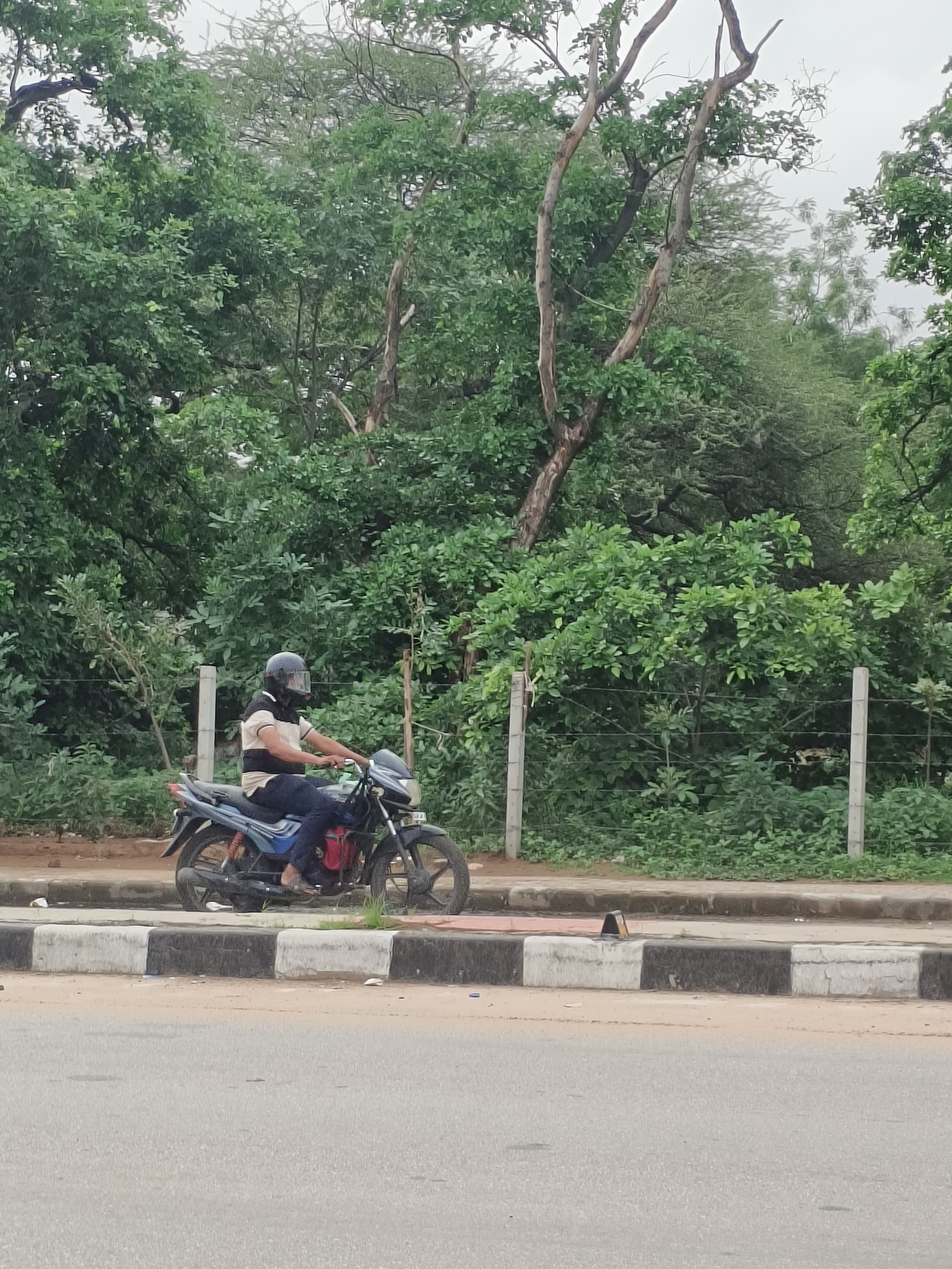BikeWithRider: (150, 644, 480, 924)
Helmet: (254, 645, 320, 713)
